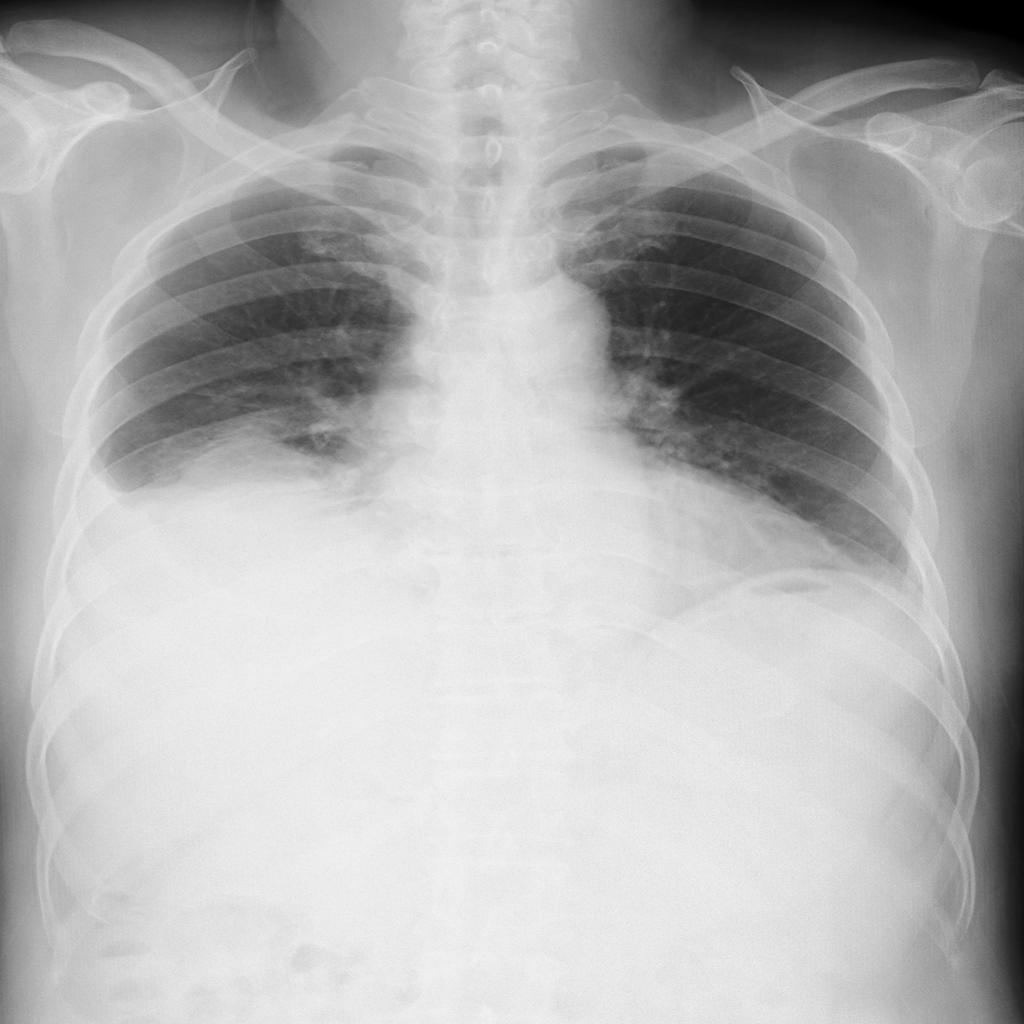Nodule: (167, 436, 356, 587)
